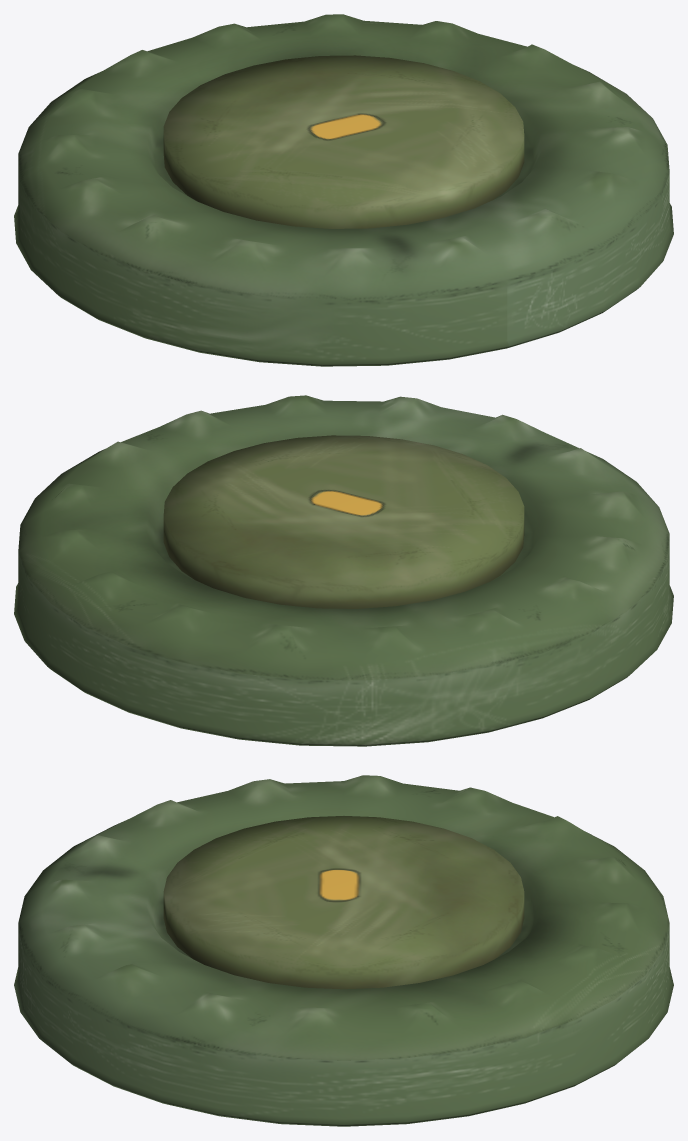
Rendered from landmine.glb.
The picture shows the model from 3 angles, top to bottom: view 1: azimuth 30°, elevation 25°; view 2: azimuth 150°, elevation 25°; view 3: azimuth 270°, elevation 25°; orthographic projection.
Parts seen in each view (by area): view 1: SimpleMine; view 2: SimpleMine; view 3: SimpleMine.
Boxes of the visible parts, <box> form: SimpleMine: <box>14,14,673,366</box>; SimpleMine: <box>14,395,673,746</box>; SimpleMine: <box>14,775,673,1126</box>.
Size of the model in its own units: 1.52 by 0.2638 by 1.52.
1 material, 1 textured.
